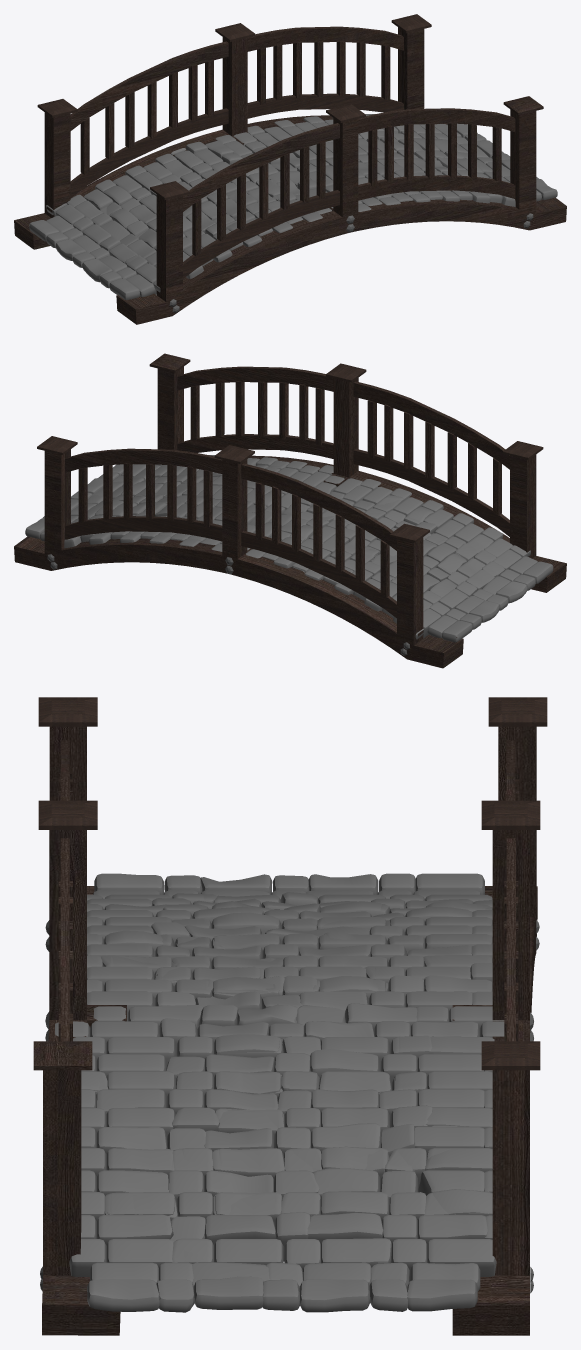
Rendered from Bridge.fbx.
3 views of the same model, one above another, from view 1: azimuth 30°, elevation 25°; view 2: azimuth 150°, elevation 25°; view 3: azimuth 270°, elevation 25° (orthographic). The views are drawn at different scales.
Visible parts, largest first — view 1: pCube3Shape, pCube148, pCube18, pCube16, pCube11, pCube6, pCube7, pCube5, pCube10, pCube9; view 2: pCube3Shape, pCube148, pCube16, pCube18, pCube11, pCube10, pCube7, pCube9, pCube6, pCube5; view 3: pCube148, pCube3Shape, pCube6, pCube10, pCube9, pCube5, pCube7.
Boxes of the visible parts, x1,y1,x2,y2 form: pCube3Shape: (14,26,566,324); pCube148: (29,114,557,300); pCube18: (70,108,228,197); pCube16: (183,190,339,278); pCube11: (247,93,403,118); pCube6: (37,99,77,117); pCube7: (391,14,431,32); pCube5: (215,23,255,41); pCube10: (150,181,190,199); pCube9: (326,104,365,122); pCube3Shape: (14,353,566,668); pCube148: (25,455,553,642); pCube16: (353,448,509,536); pCube18: (241,531,396,618); pCube11: (65,516,222,541); pCube10: (502,441,543,459); pCube7: (37,436,77,454); pCube9: (326,363,366,382); pCube6: (389,523,429,542); pCube5: (214,445,254,463); pCube148: (55,873,504,1312); pCube3Shape: (33,726,537,1335); pCube6: (488,697,547,726); pCube10: (38,697,97,726); pCube9: (38,800,97,829); pCube5: (481,800,540,829); pCube7: (481,1041,540,1070).
Size of the model in its own units: 26.67 by 9.29 by 13.68.
